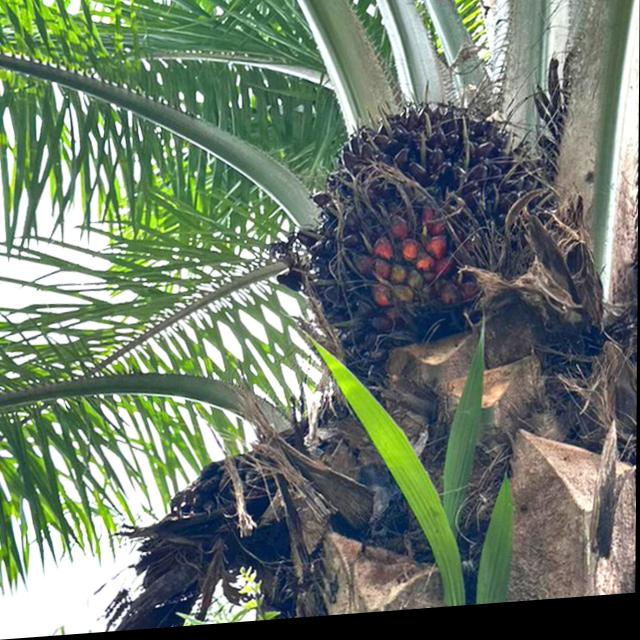ripe: (282, 68, 571, 378)
